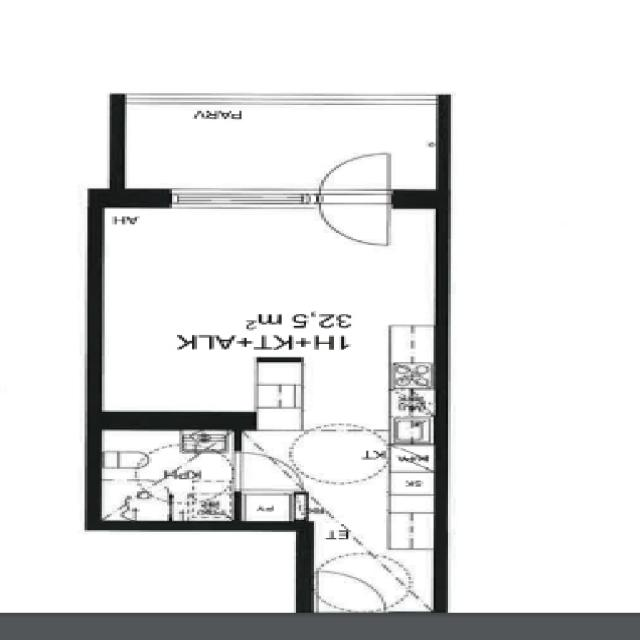door: (314, 150, 400, 251), (311, 556, 415, 615), (227, 447, 303, 497)
window: (158, 183, 315, 213)
zone: (97, 198, 441, 428), (95, 427, 240, 524), (236, 491, 307, 525)
